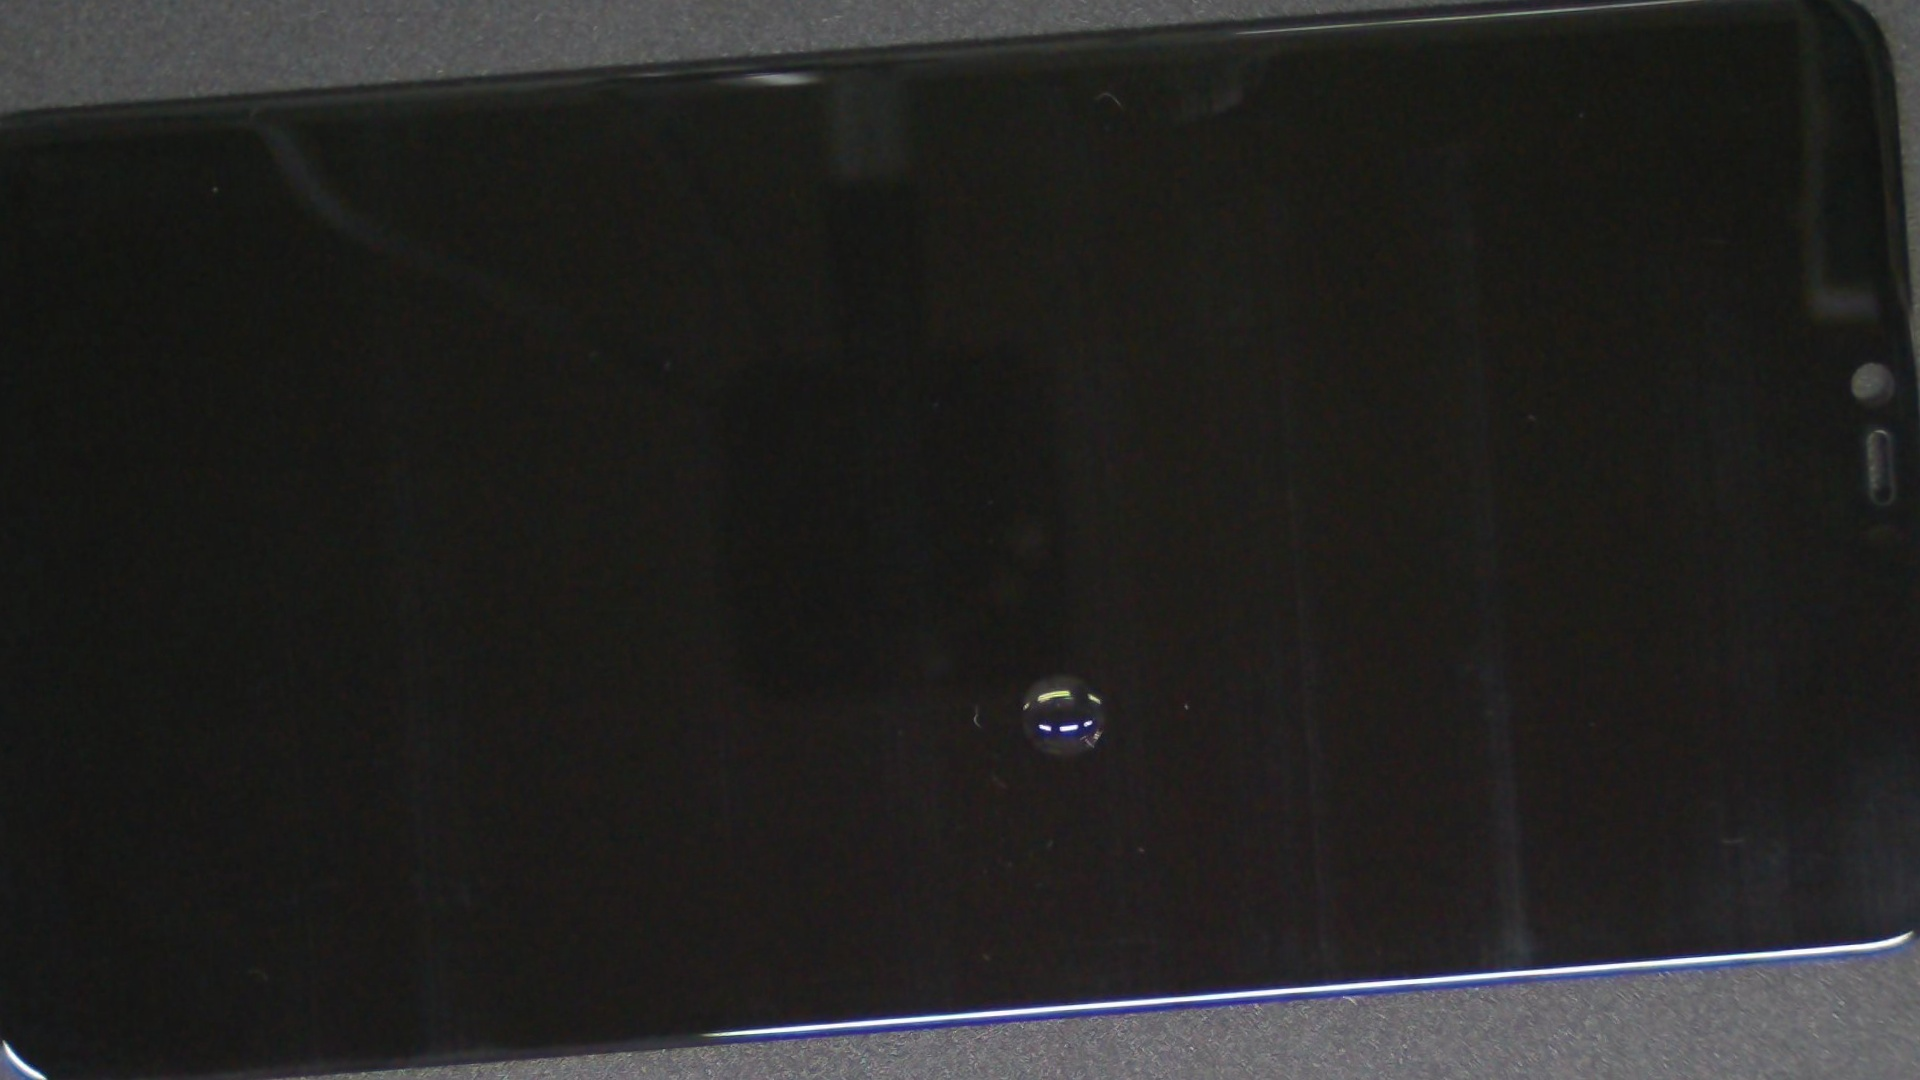oil: (454, 257, 1662, 1080)
